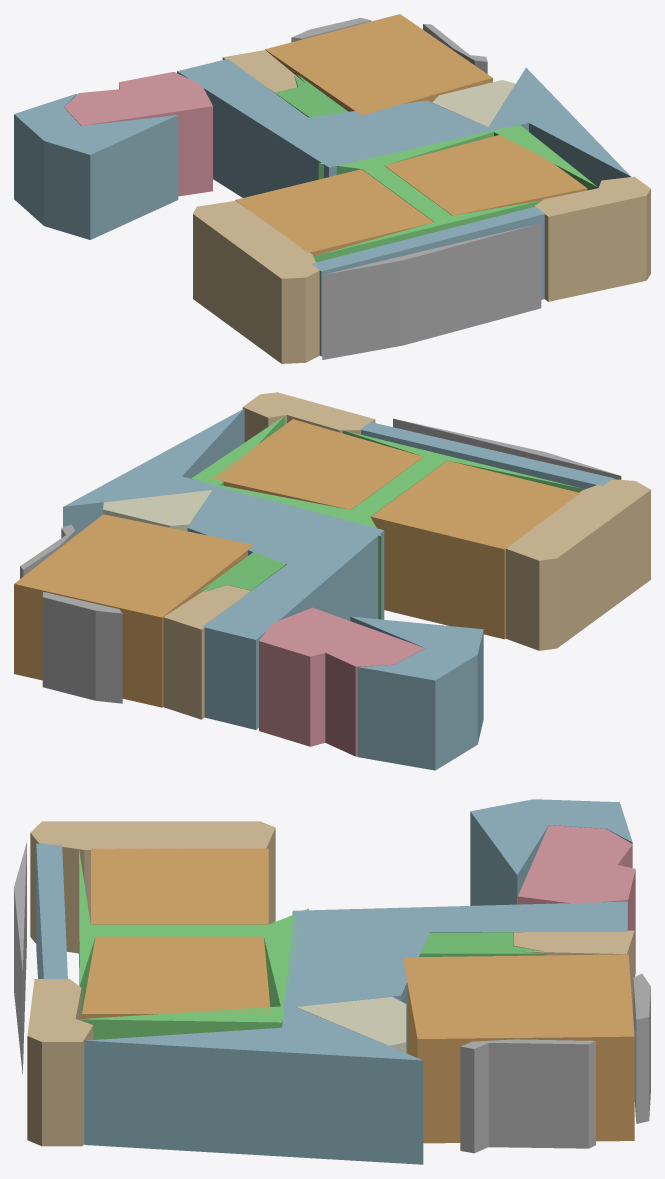
Rendered from Capture d’écran 2025-06-05 224143.obj.
3 views of the same model, one above another, from view 1: azimuth 30°, elevation 25°; view 2: azimuth 150°, elevation 25°; view 3: azimuth 270°, elevation 25° (orthographic). The views are drawn at different scales.
Size of the model in its own units: 13.43 by 2.5 by 13.83.
